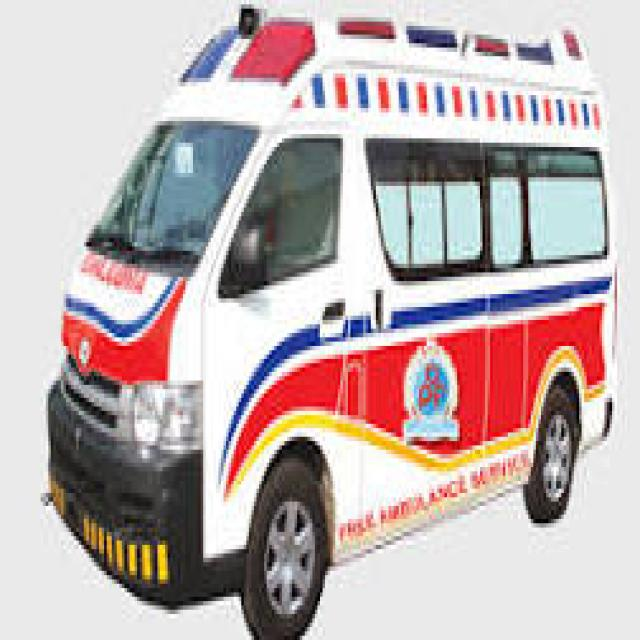ambulance: (62, 42, 616, 634)
